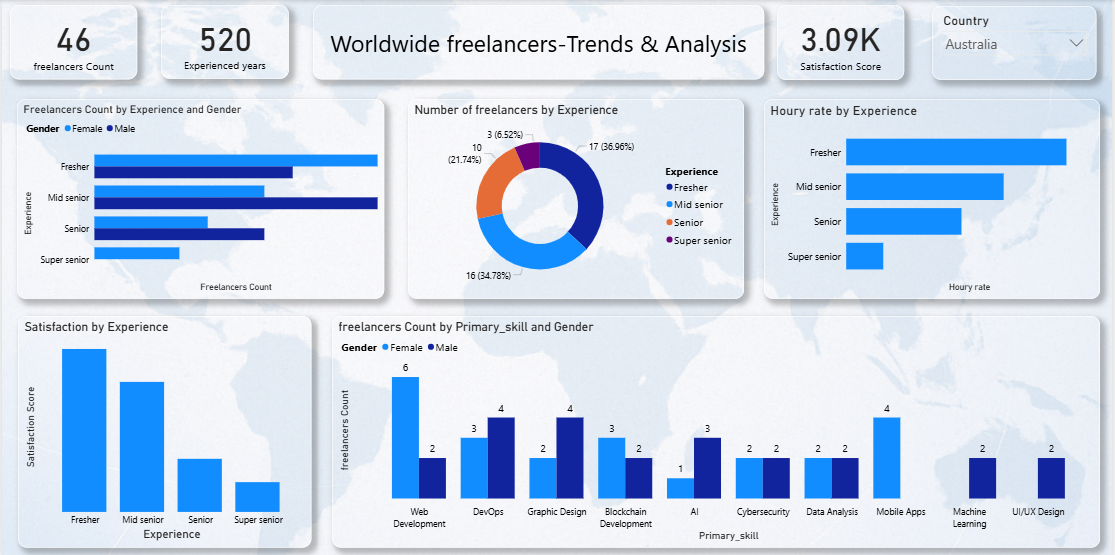

The page's visual inventory and layout, read from the dashboard file:
{"tool":"powerbi","page":{"name":"Page 1","canvas":[1850,930],"ordinal":0},"visuals":[{"type":"donutChart","title":"Number of freelancers by Experience","fields":{"Category":["Table 1 (global_freelancers_raw).Experience(years) (groups)"],"Y":["CountNonNull(Table 1 (global_freelancers_raw).freelancer_ID)"]},"box":[676.4,165.7,559.7,333.1],"z":0},{"type":"columnChart","title":"Satisfaction by Experience","fields":{"Category":["Table 1 (global_freelancers_raw).Experience(years) (groups)"],"Y":["Sum(Table 1 (global_freelancers_raw).Satisfaction)"]},"box":[27.1,525.9,488.7,385.5],"z":1000},{"type":"clusteredColumnChart","fields":{"Category":["Table 1 (global_freelancers_raw).Primary_skill"],"Series":["Table 1 (global_freelancers_raw). Gender"],"Y":["CountNonNull(Table 1 (global_freelancers_raw).freelancer_ID)"]},"box":[549.5,525.9,1280,385.5],"z":2000},{"type":"barChart","fields":{"Category":["Table 1 (global_freelancers_raw).Experience(years) (groups)"],"Y":["Sum(Table 1 (global_freelancers_raw).Houry rate)"]},"box":[1269.9,165.7,559.7,333.1],"z":3000},{"type":"clusteredBarChart","title":"Freelancers Count by Experience and Gender","fields":{"Category":["Table 1 (global_freelancers_raw).Experience(years) (groups)"],"Y":["CountNonNull(Table 1 (global_freelancers_raw).freelancer_ID)"],"Series":["Table 1 (global_freelancers_raw). Gender"]},"box":[25.4,165.7,612.1,333.1],"z":4000},{"type":"card","fields":{"Values":["CountNonNull(Table 1 (global_freelancers_raw).freelancer_ID)"]},"box":[26.7,8.9,159.9,122.6],"z":5000},{"type":"card","fields":{"Values":["Sum(Table 1 (global_freelancers_raw).Experience(years))"]},"box":[207.9,10.7,284.3,122.6],"z":6000},{"type":"slicer","fields":{"Values":["Table 1 (global_freelancers_raw).Country"]},"box":[1550,10,273.3,123.3],"z":7000},{"type":"card","fields":{"Values":["Sum(Table 1 (global_freelancers_raw).Satisfaction)"]},"box":[1292.3,8.3,212.3,124.9],"z":8000},{"type":"shape","box":[518.9,8.9,751.7,124.4],"z":9000}]}

Visuals, with their boxes in screenshot pixels (x1, y1, x2, y2), scaled from the page's 1850x930 canvas onto the 1115x555 screenshot:
"Number of freelancers by Experience" donutChart: Rect(408, 99, 745, 298)
"Satisfaction by Experience" columnChart: Rect(16, 314, 311, 544)
clusteredColumnChart - Table 1 (global_freelancers_raw).Primary_skill x Table 1 (global_freelancers_raw). Gender: Rect(331, 314, 1103, 544)
barChart - Table 1 (global_freelancers_raw).Experience(years) (groups) x Sum(Table 1 (global_freelancers_raw).Houry rate): Rect(765, 99, 1103, 298)
"Freelancers Count by Experience and Gender" clusteredBarChart: Rect(15, 99, 384, 298)
card - CountNonNull(Table 1 (global_freelancers_raw).freelancer_ID): Rect(16, 5, 112, 78)
card - Sum(Table 1 (global_freelancers_raw).Experience(years)): Rect(125, 6, 297, 80)
slicer - Table 1 (global_freelancers_raw).Country: Rect(934, 6, 1099, 80)
card - Sum(Table 1 (global_freelancers_raw).Satisfaction): Rect(779, 5, 907, 79)
shape: Rect(313, 5, 766, 80)
